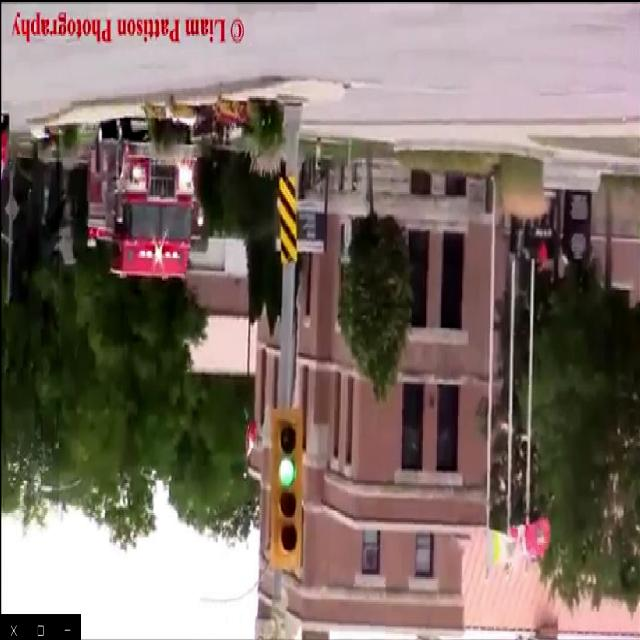emergency: (80, 112, 202, 280)
